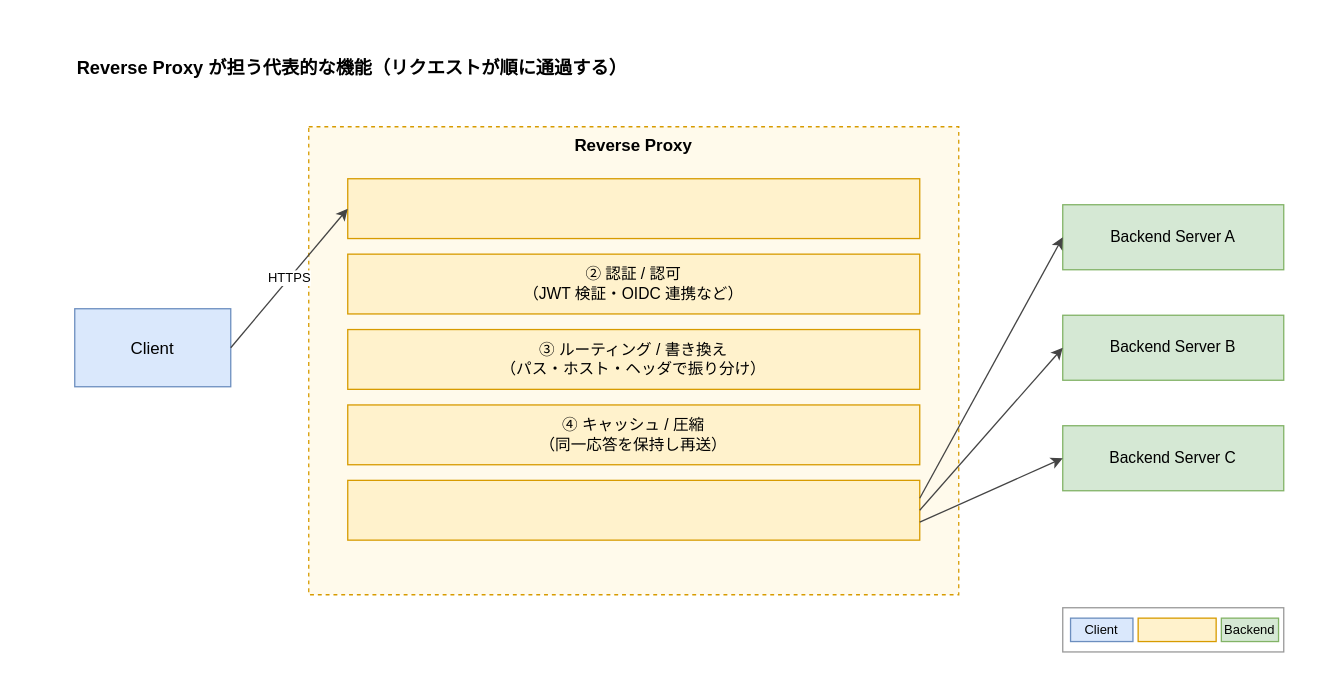
The diagram is 1344 pixels wide and 694 high, and some of its shapes have lost their labels. The shapes that lost their labels are listed below. From the top down, each one's centre as x and y in pixels, then its label:
At [633,208]: "① TLS 終端 （HTTPS をここで復号）".
At [633,509]: "⑤ ロードバランス / ヘルスチェック （生存しているサーバへ分散）".
At [1176,629]: "Proxy 機能".
